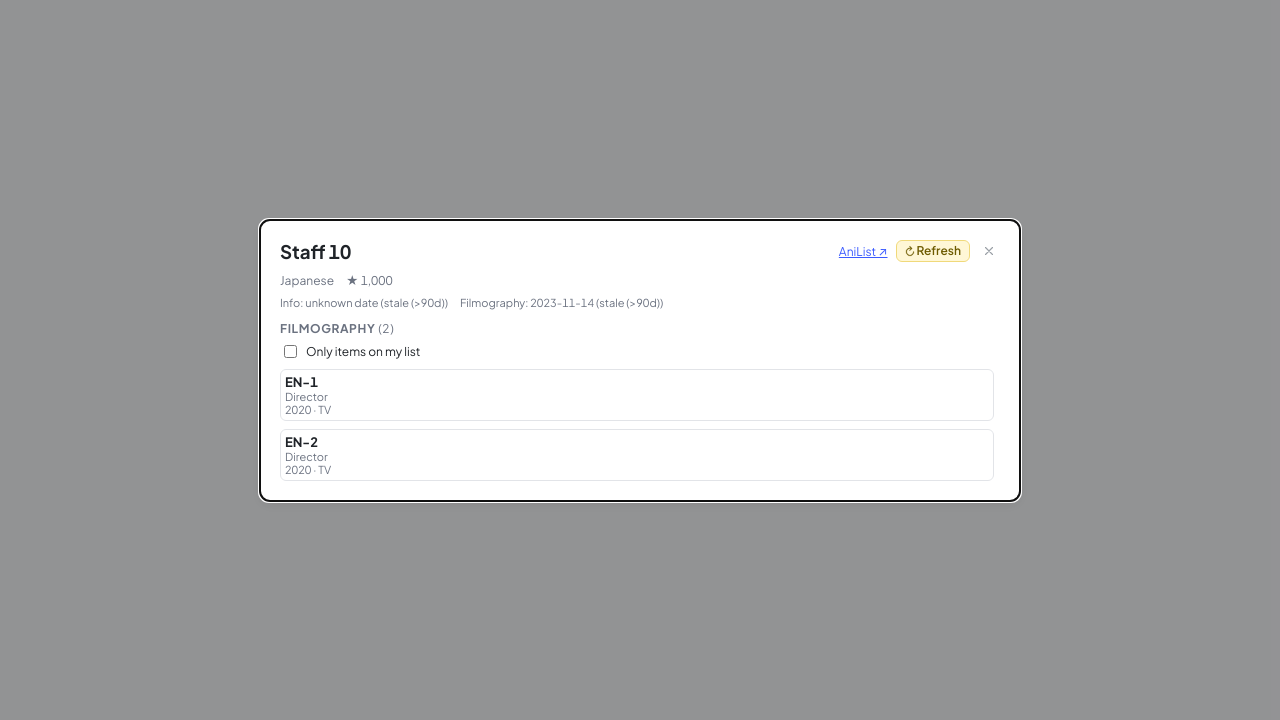
Test case: StaffDetailModal — my-list toggle + navigation › filters credits to the cached list membership when toggled on
Click the checkbox labelled "Only items on my list" at [290, 351], box [284,344,297,358]
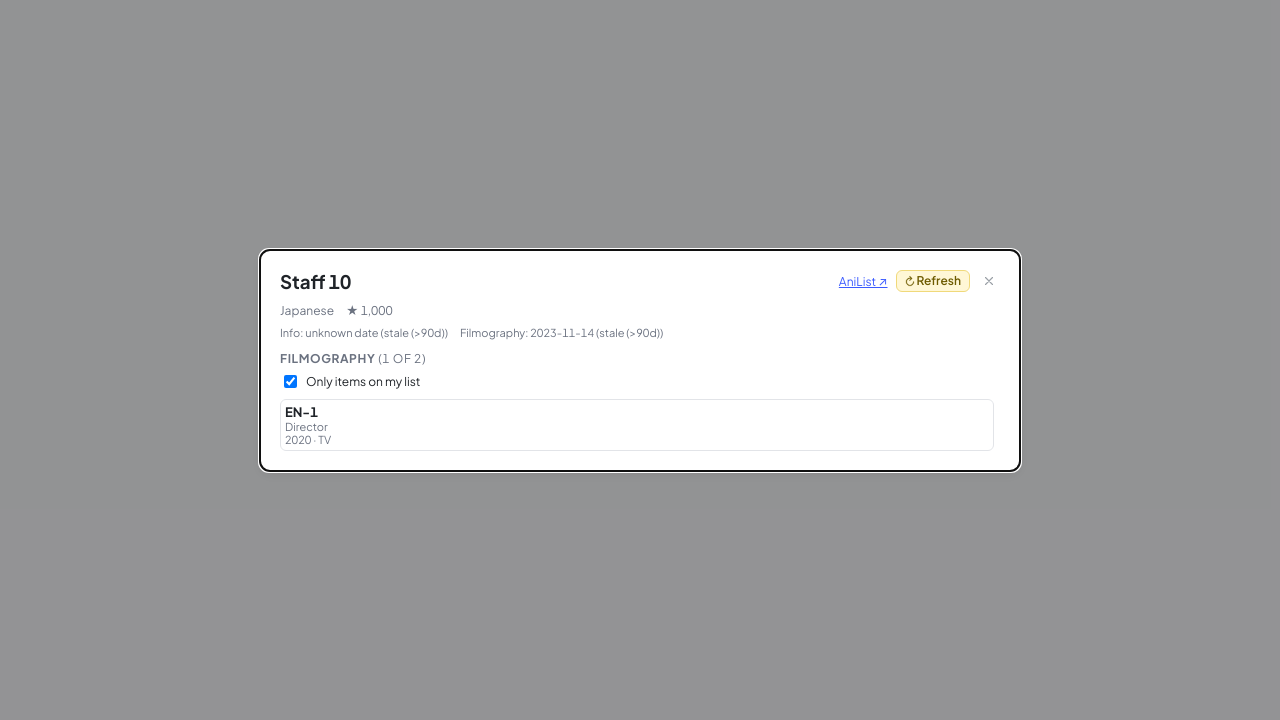
Check: the text "EN-1" is shown, box [285,404,318,420]
Check: the text "EN-2" is gone
